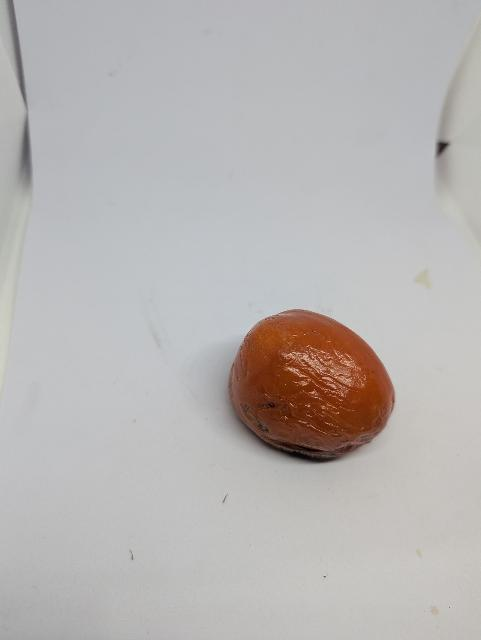defect: (227, 306, 399, 463)
